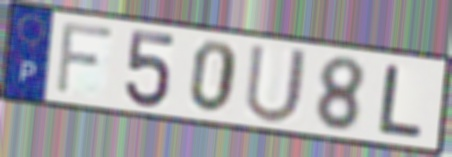0: (186, 38, 239, 115)
5: (121, 26, 178, 109)
8: (315, 54, 368, 134)
F: (52, 19, 117, 97)
L: (375, 62, 425, 141)
U: (242, 41, 312, 126)
